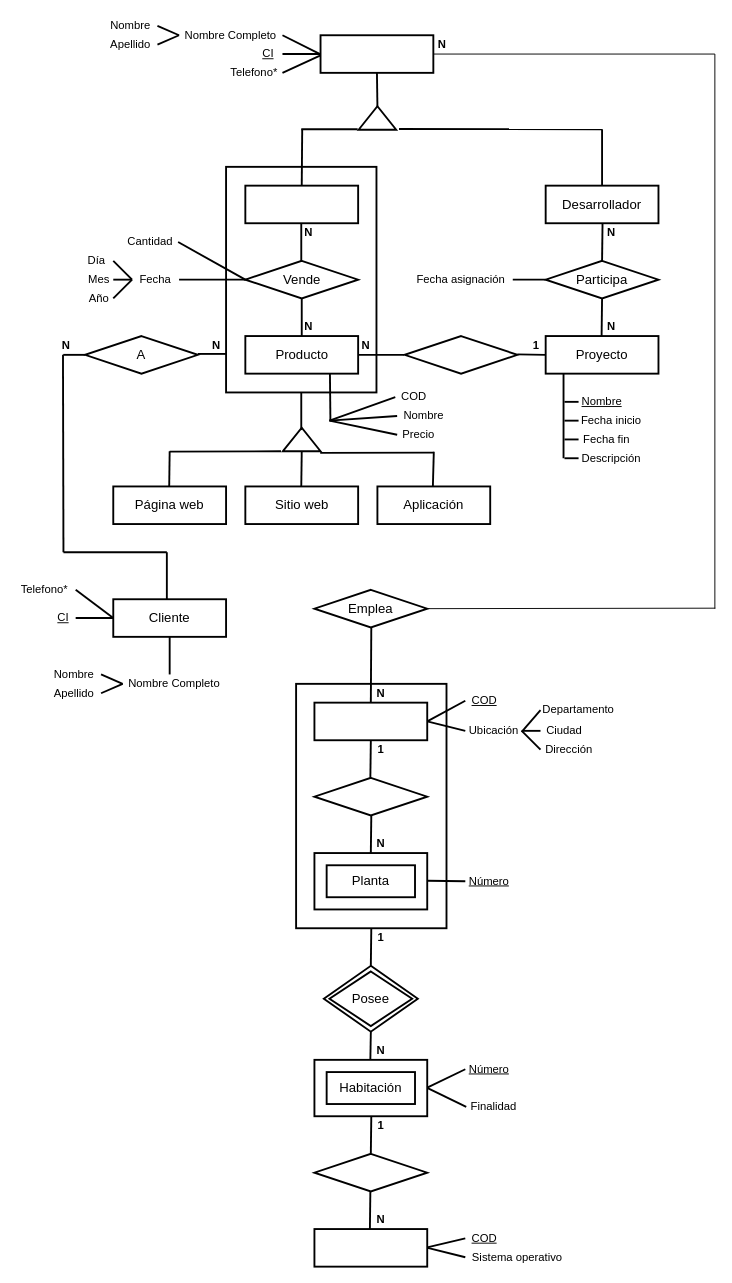
The diagram is 732 pixels wide and 1283 high, and some of its shapes have lost their labels. The centre of each missing label's shape, as x and y in pixels:
"Contiene" goes at [370,1172].
"Deriva en" goes at [460,354].
"Empleado" goes at [376,53].
"Equipo" goes at [370,1247].
"Local" goes at [370,721].
"Tiene" goes at [370,796].
"Vendedor" goes at [301,204].
